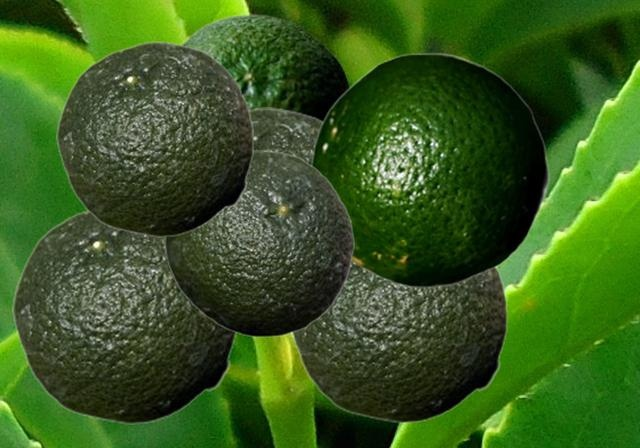calamansi: (309, 52, 549, 287), (12, 208, 237, 423), (56, 41, 253, 236), (164, 150, 354, 336), (289, 263, 507, 422), (179, 13, 351, 119), (249, 107, 322, 162)
